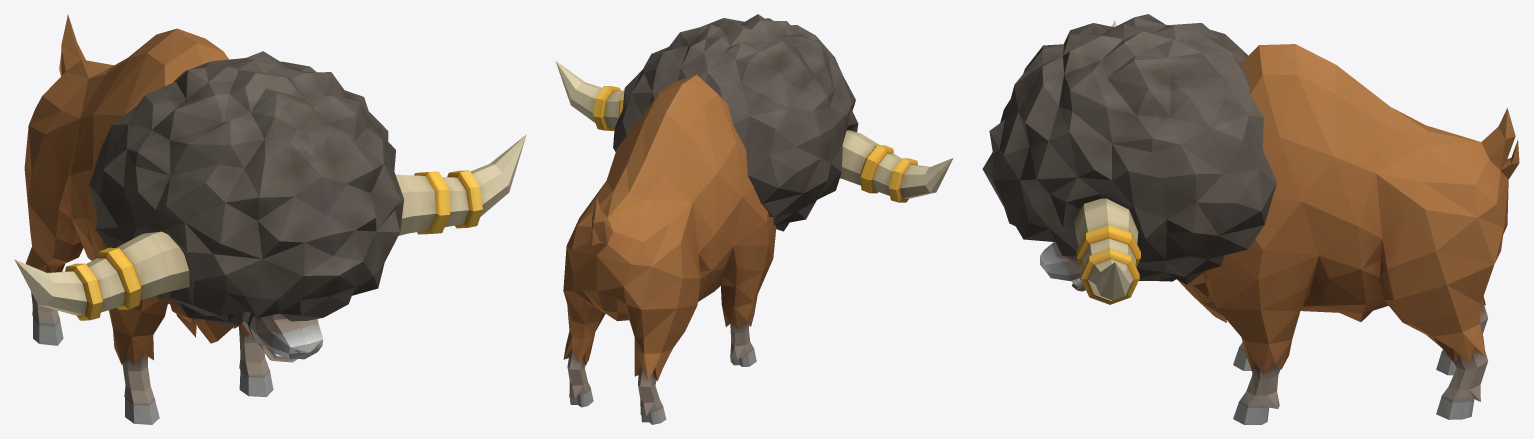
3 renders of one model, left to right at view 1: azimuth 30°, elevation 25°; view 2: azimuth 150°, elevation 25°; view 3: azimuth 270°, elevation 25°, orthographic. The views are drawn at different scales.
Visible parts, largest first — view 1: Object_2; view 2: Object_2; view 3: Object_2.
Part boxes in pixels (bbox=[...]): Object_2: bbox=[14, 14, 526, 424]; Object_2: bbox=[555, 14, 953, 424]; Object_2: bbox=[982, 14, 1519, 424].
Size of the model in its own units: 23.77 by 16.5 by 22.25.
2 materials, 2 textured.
